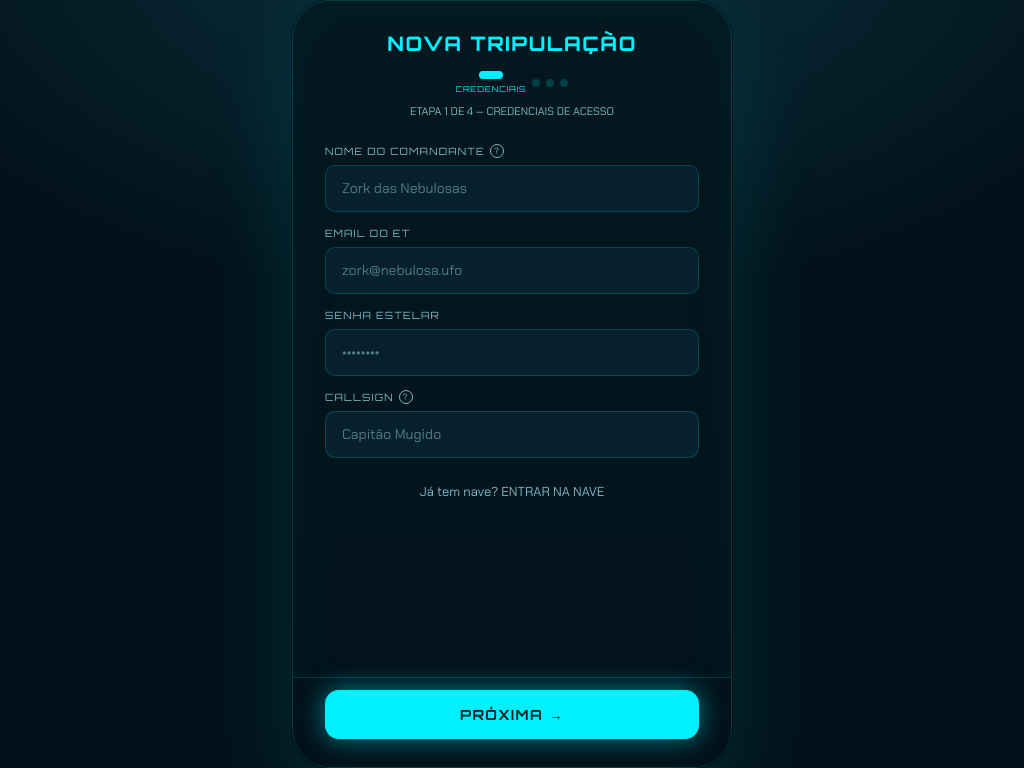
Test case: RegisterPage — Etapa 1 › exibe erros de validação ao submeter etapa 1 vazia
The width and height of the screenshot is (1024, 768).
Click the button "PRÓXIMA →" at (512, 714), box [325,690,699,739]
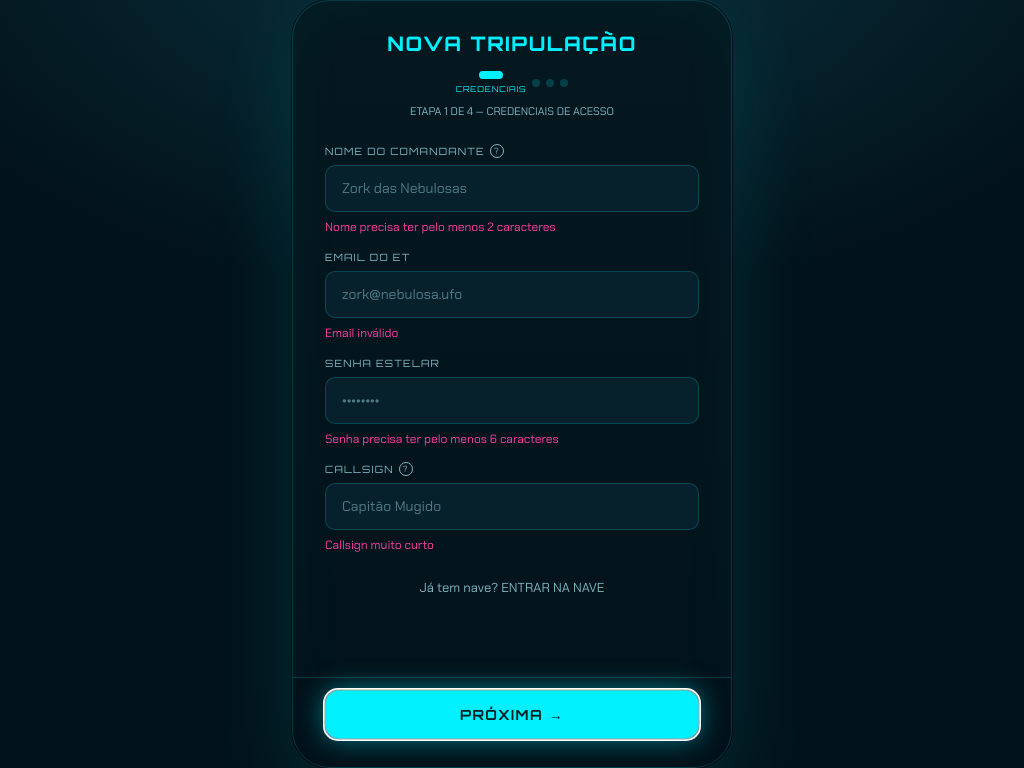
Expected: the text "Nome precisa ter pelo menos 2 caracteres" is shown, [325,218,556,234]
Expected: the text "Email inválido" is shown, [325,324,398,340]
Expected: the text "Senha precisa ter pelo menos 6 caracteres" is shown, [325,430,559,446]
